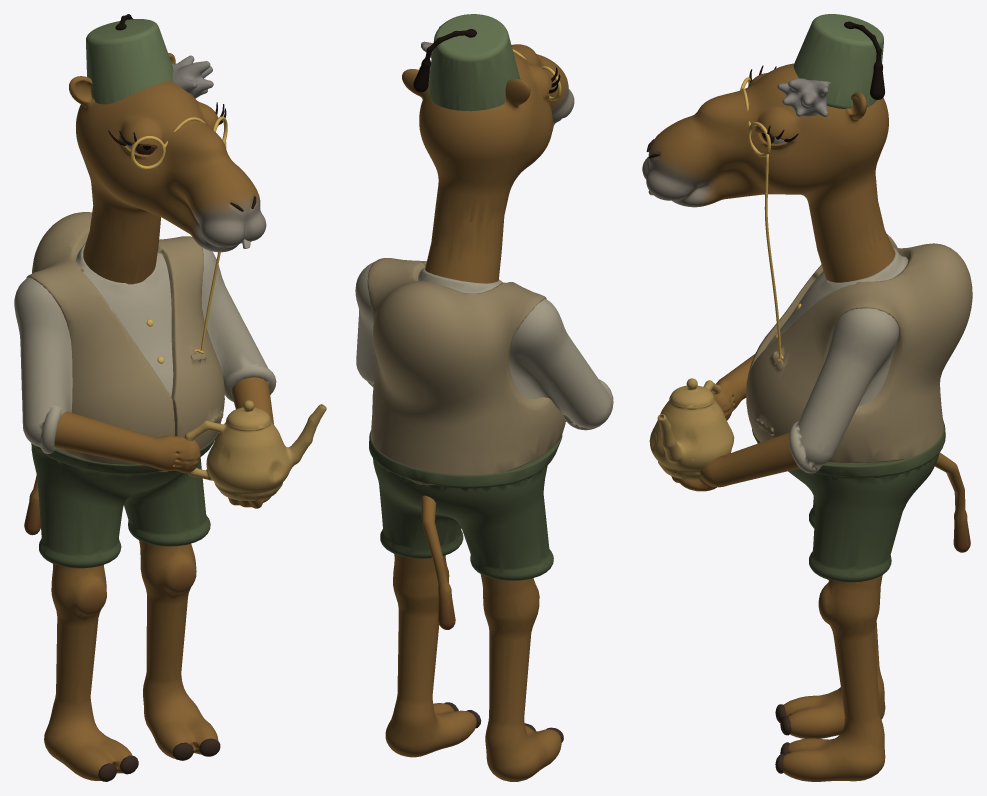
The model's file is Mr Camel.glb.
The picture shows the model from 3 angles, left to right: view 1: azimuth 30°, elevation 25°; view 2: azimuth 150°, elevation 25°; view 3: azimuth 270°, elevation 25°; orthographic projection.
Visible parts, largest first — view 1: Body, Waistcoat, Shirt, Trousers, Kettle, Fez, Spectacles; view 2: Body, Waistcoat, Trousers, Shirt, Fez; view 3: Body, Waistcoat, Trousers, Shirt, Fez, Kettle, Spectacles.
Part boxes in pixels (bbox=[...]): Body: bbox=[24, 53, 273, 781]; Waistcoat: bbox=[26, 212, 224, 471]; Shirt: bbox=[14, 243, 276, 453]; Trousers: bbox=[31, 432, 218, 568]; Kettle: bbox=[184, 400, 326, 500]; Fez: bbox=[86, 14, 173, 104]; Spectacles: bbox=[130, 116, 227, 353]; Body: bbox=[385, 26, 574, 781]; Waistcoat: bbox=[367, 258, 565, 485]; Trousers: bbox=[369, 430, 562, 580]; Shirt: bbox=[355, 261, 613, 430]; Fez: bbox=[413, 14, 520, 111]; Body: bbox=[642, 63, 970, 781]; Waistcoat: bbox=[746, 234, 972, 463]; Trousers: bbox=[752, 420, 945, 582]; Shirt: bbox=[765, 248, 908, 473]; Fez: bbox=[793, 14, 884, 108]; Kettle: bbox=[649, 378, 734, 479]; Spectacles: bbox=[740, 77, 783, 361].
Size of the model in its own units: 0.7021 by 1.99 by 0.816.
Materials: 14 (1 with a texture image).
